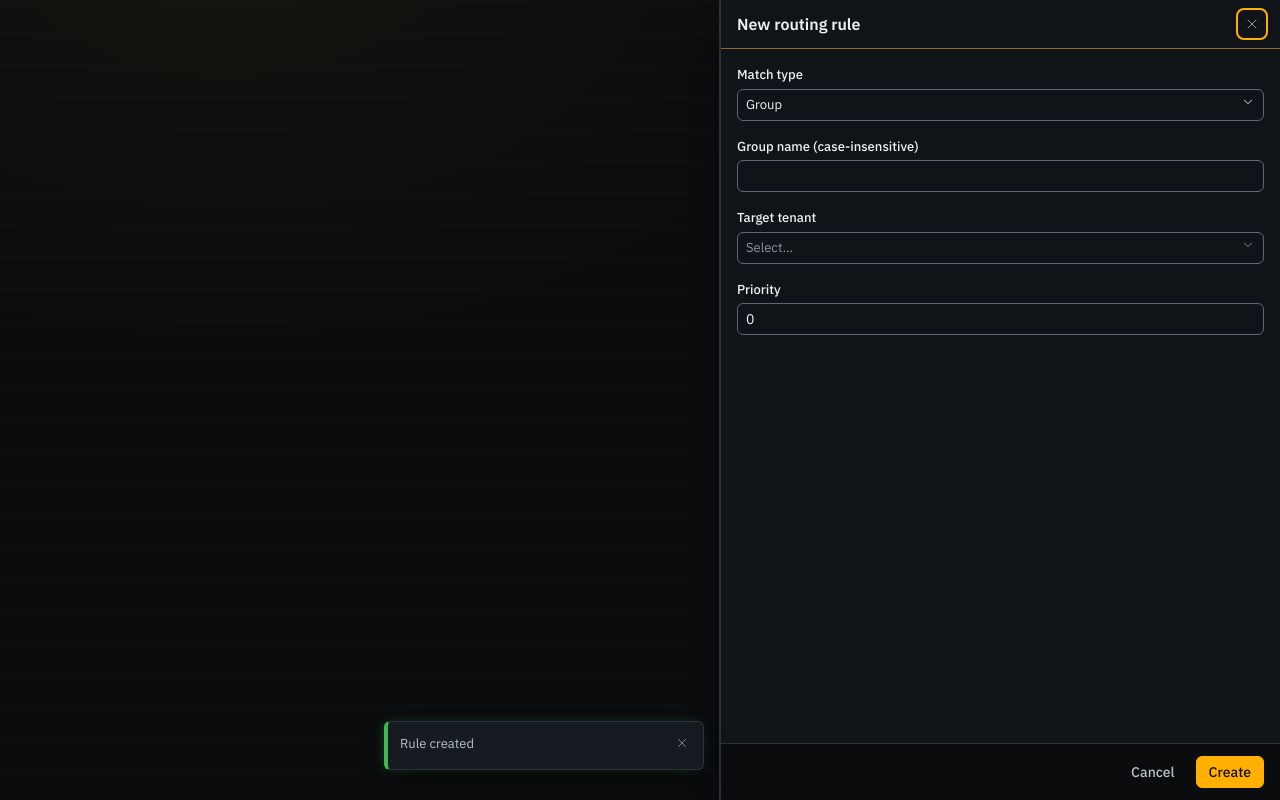
it: TenantMatchEditor — create mode › surfaces 409 conflict: shows the conflict message in a toast
Type "ops-team" into the field labelled "Group name (case-insensitive)" at (1000, 176), box [738,166,1263,186]
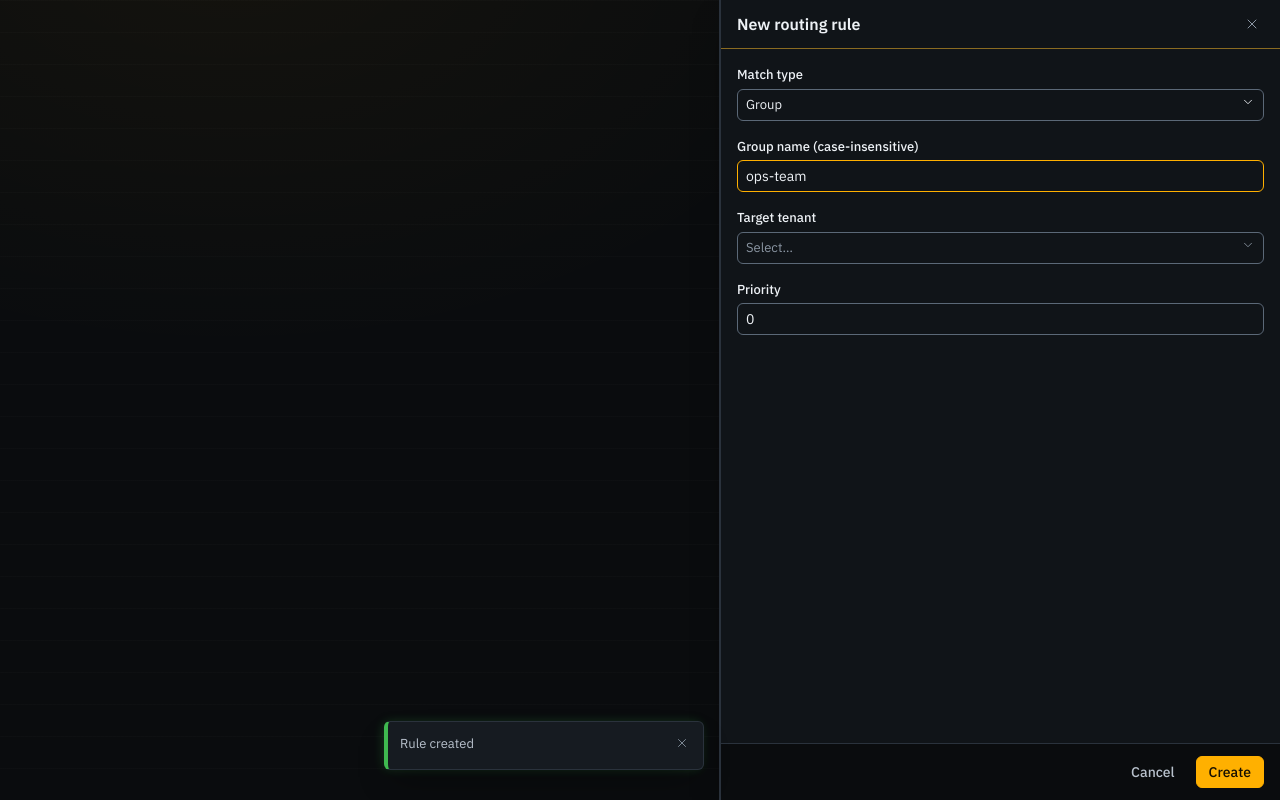
Click the dropdown named "target tenant" at (769, 247), box [737,232,1264,264]
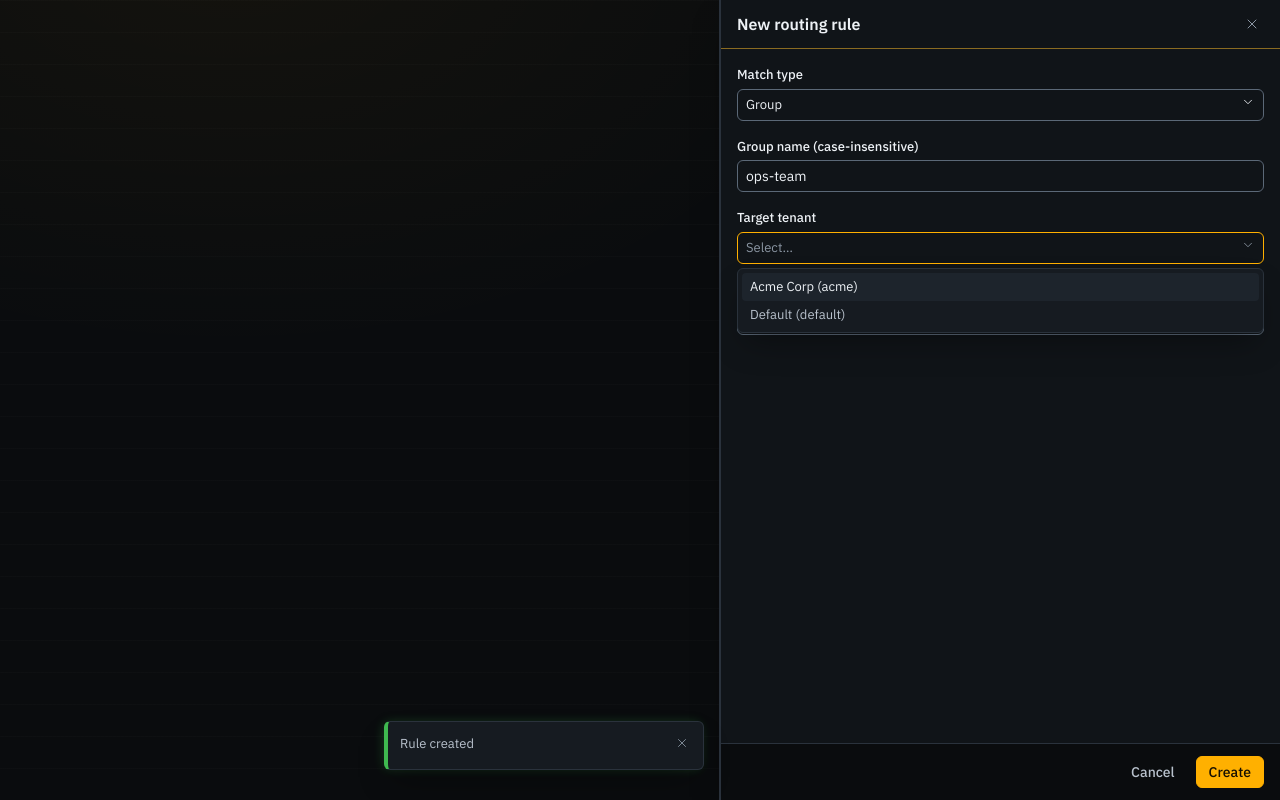
Click the option "Acme Corp (acme)" at (804, 286), box [742,273,1259,300]
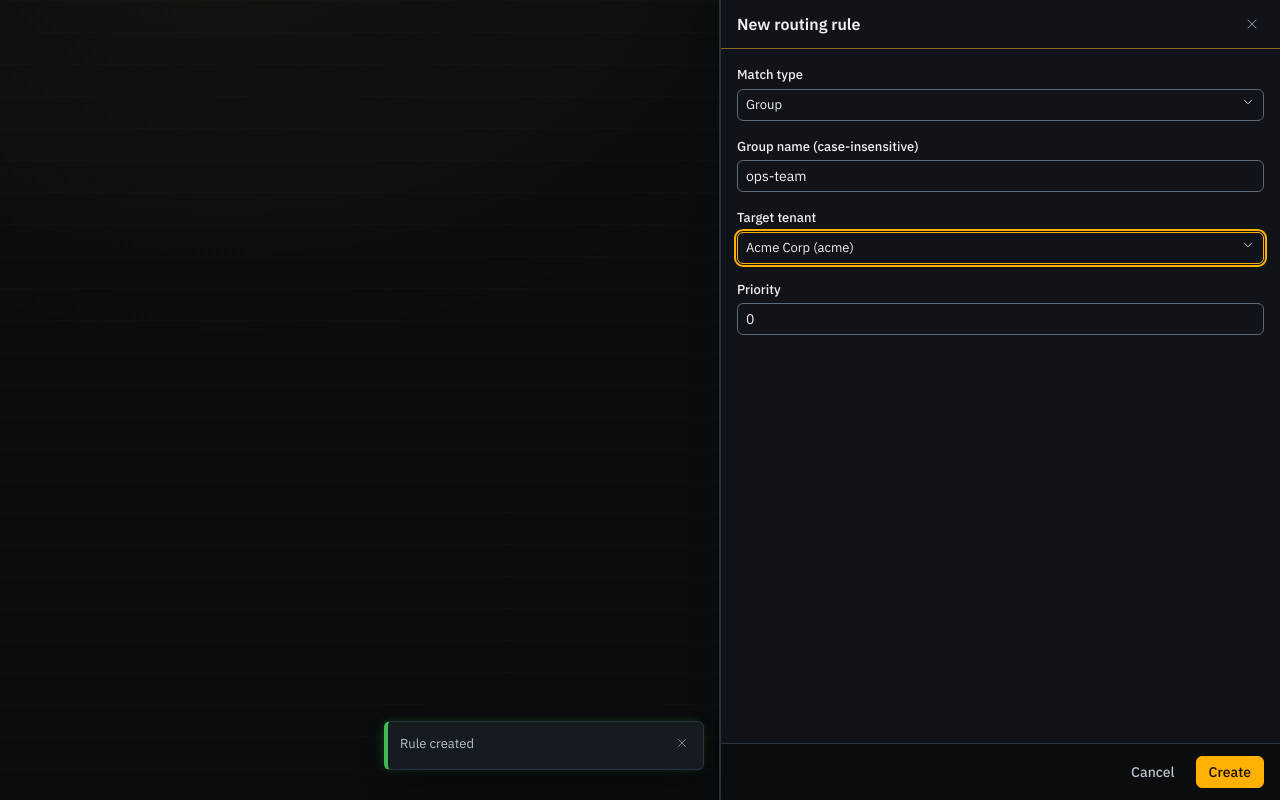
Click the button "Create" at (1230, 772), box [1196,756,1264,788]
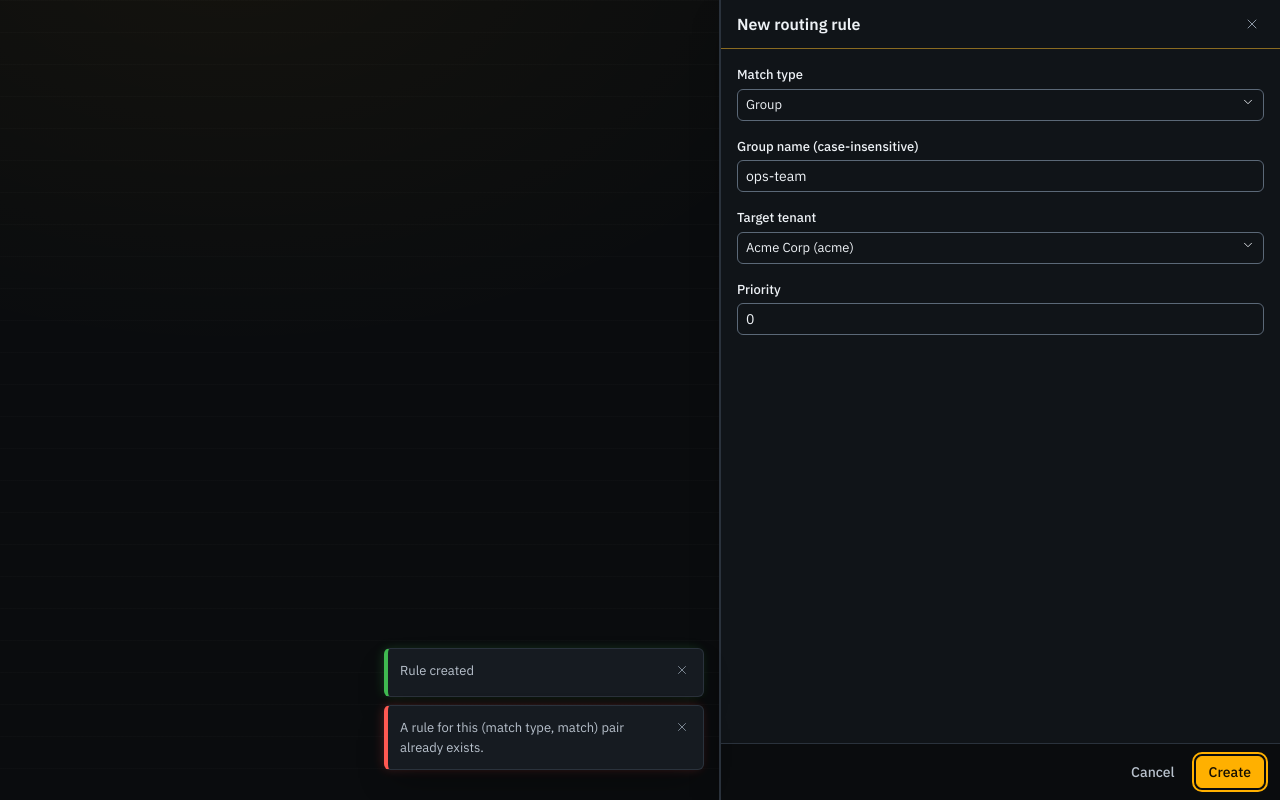
Expected: the text "A rule for this (match type, match) pair already exists." is shown, [400,719,624,756]
